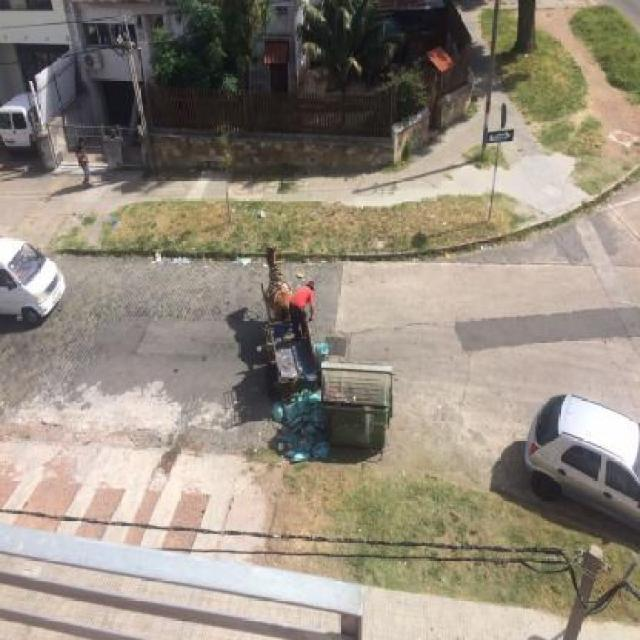garbage: (268, 391, 328, 466), (152, 248, 190, 266), (234, 248, 256, 266), (309, 337, 330, 352), (260, 211, 268, 221)
